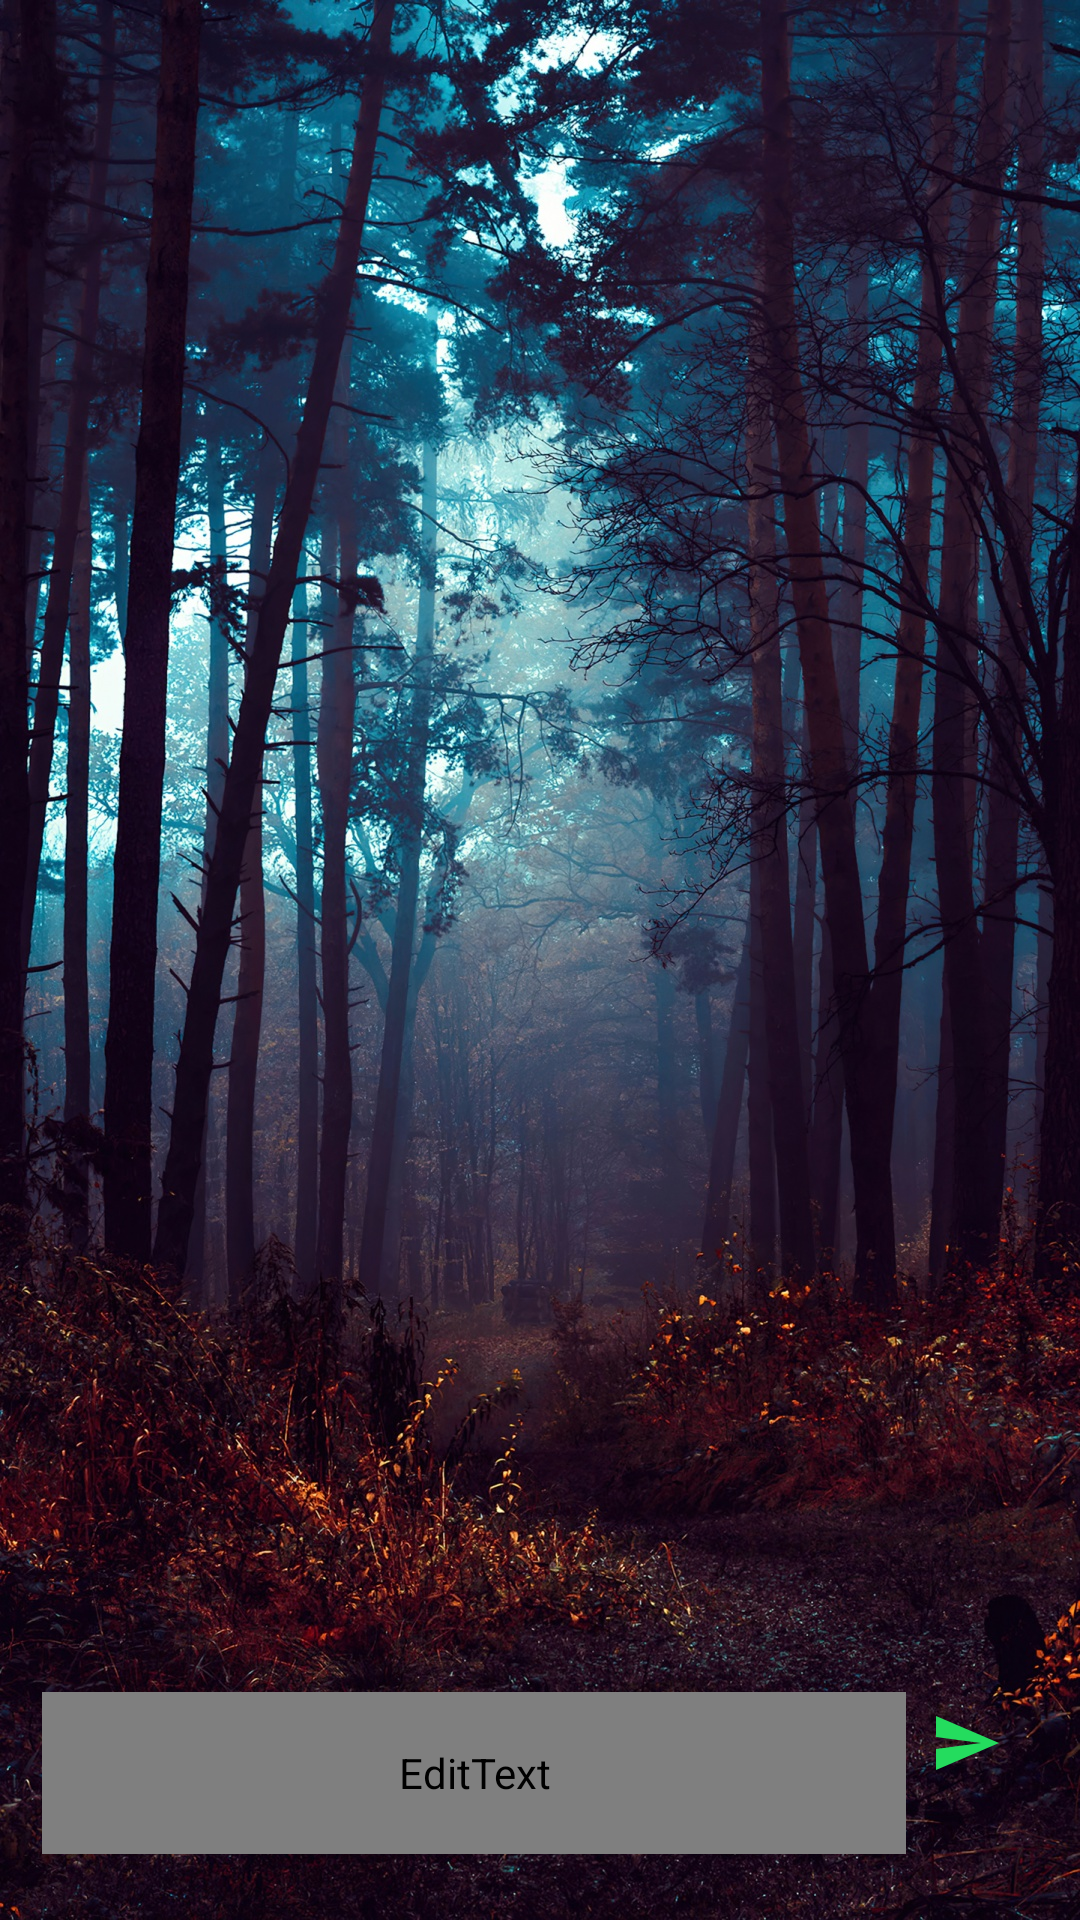

Where to tap for icons on this 1080×1920 app screen, as (x,y):
send: (966,1743)
